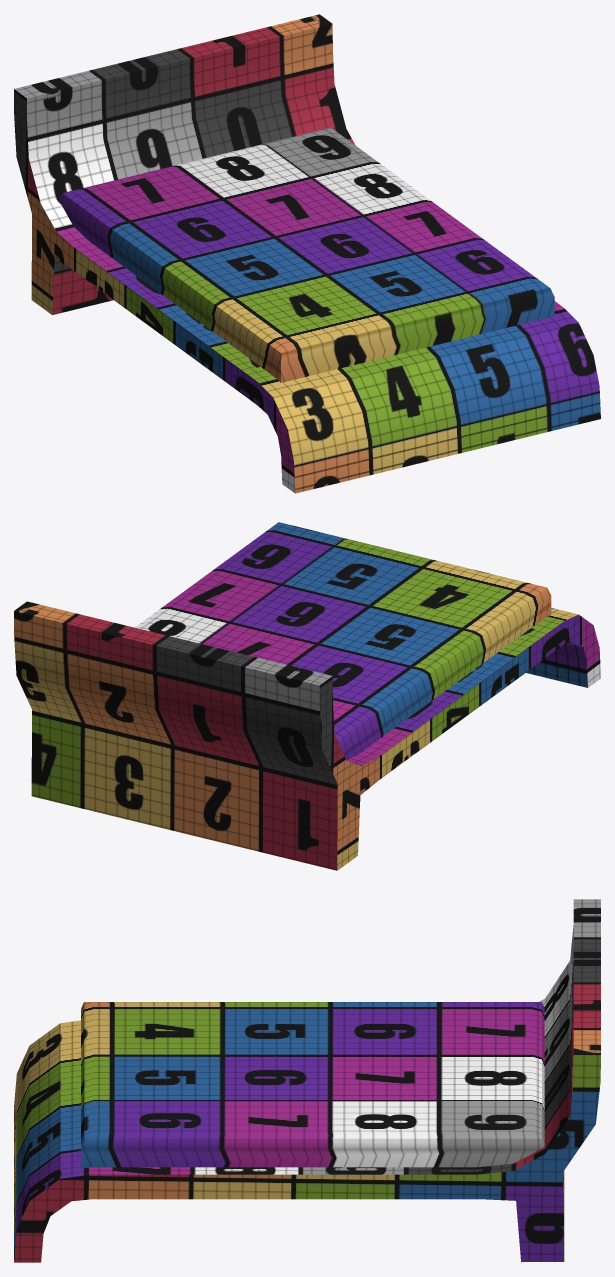
File: Bed.FBX
3 views of the same model, one above another, from view 1: azimuth 30°, elevation 25°; view 2: azimuth 150°, elevation 25°; view 3: azimuth 270°, elevation 25° (orthographic). The views are drawn at different scales.
Visible parts, largest first — view 1: Bed; view 2: Bed; view 3: Bed.
Boxes of the visible parts, x1=… form: Bed: x1=14, y1=14, x2=600, y2=493; Bed: x1=14, y1=522, x2=600, y2=870; Bed: x1=14, y1=899, x2=600, y2=1262.
Bounding box in the file's own units: 2.52 × 1.56 × 4.01.
Materials: 1 (1 with a texture image).
